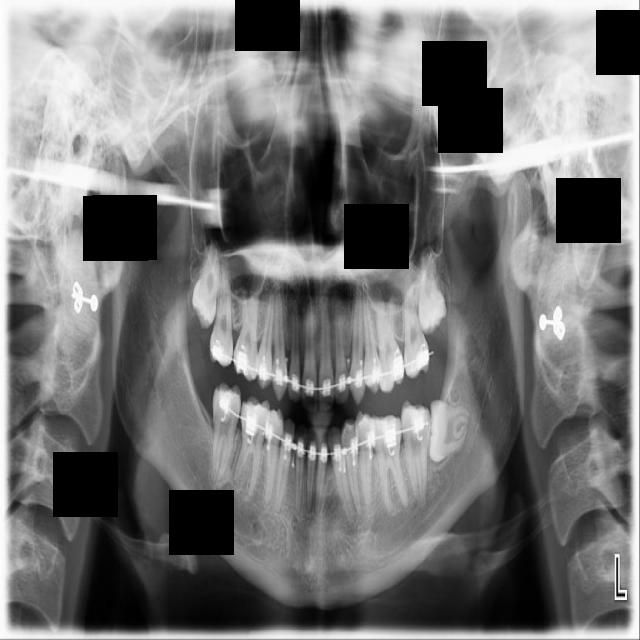3M ESPE Implant: (189, 235, 223, 330)
73: (525, 530, 531, 544)
BioHorizons Implant: (401, 271, 430, 379)
BioLife Implant: (416, 250, 448, 336)
Biomet 3i Implant: (425, 399, 474, 467)
Blue Sky Bio Implant: (396, 400, 432, 510)
Caries: (208, 252, 233, 367)
Implant: (210, 381, 242, 485)
